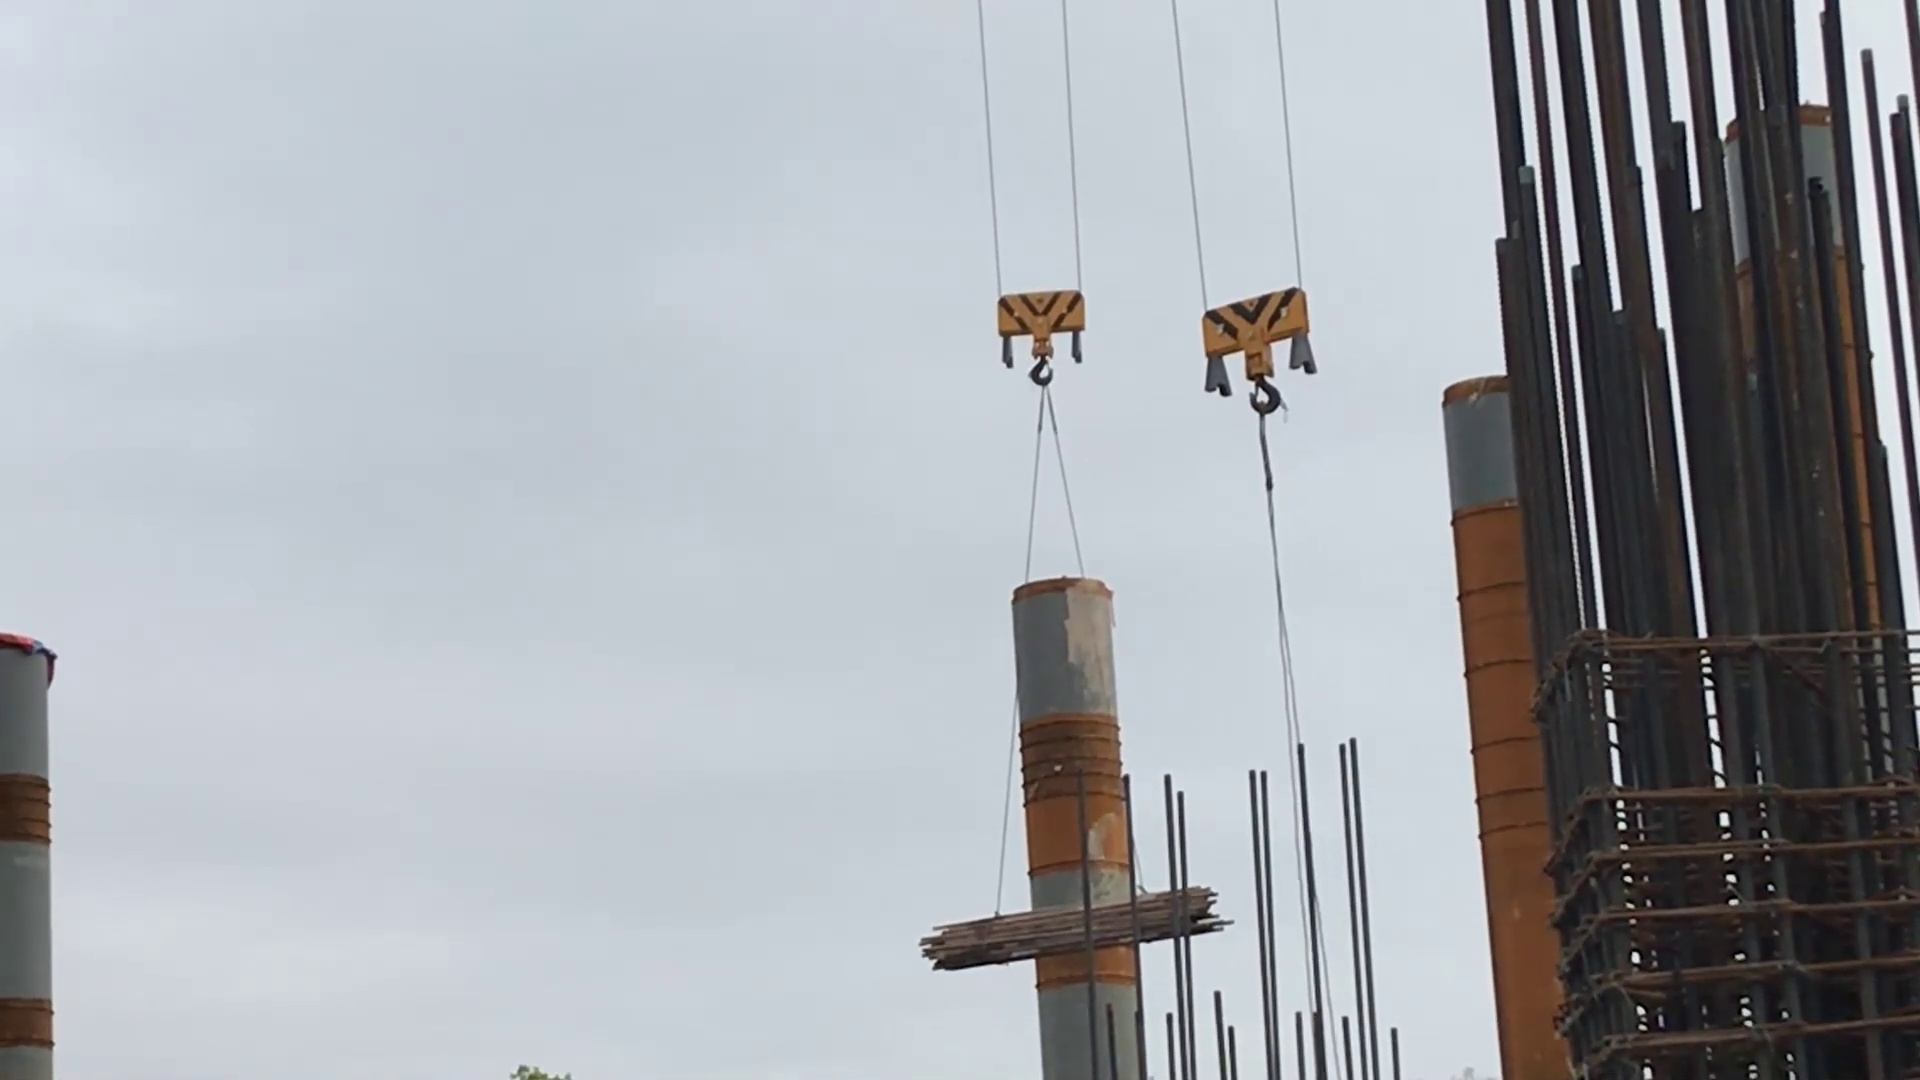hook: (1197, 286, 1319, 418), (994, 287, 1089, 390)
